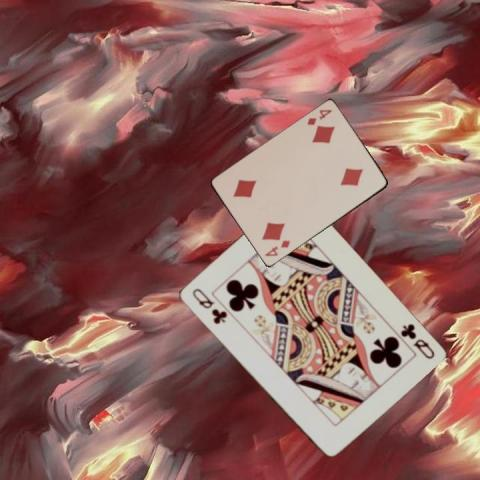4d: (262, 237, 291, 258), (304, 106, 333, 126)
Qc: (189, 285, 228, 326), (397, 320, 436, 360)
